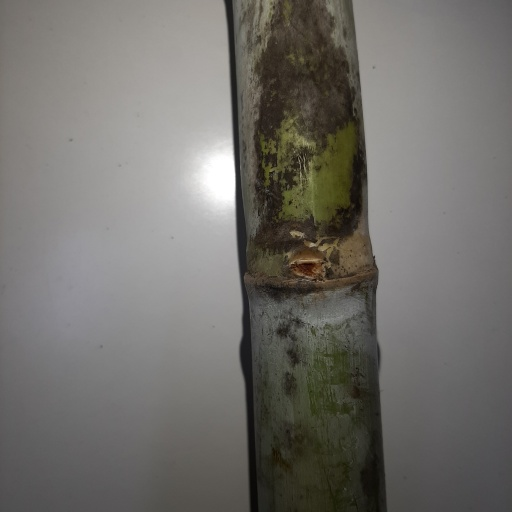Damage_Bud: (287, 246, 326, 280)
